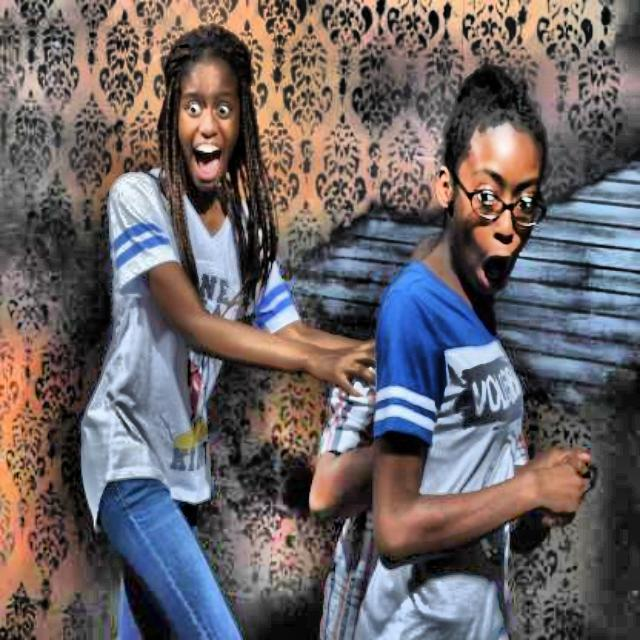fear: (422, 56, 555, 308), (138, 21, 268, 227)
